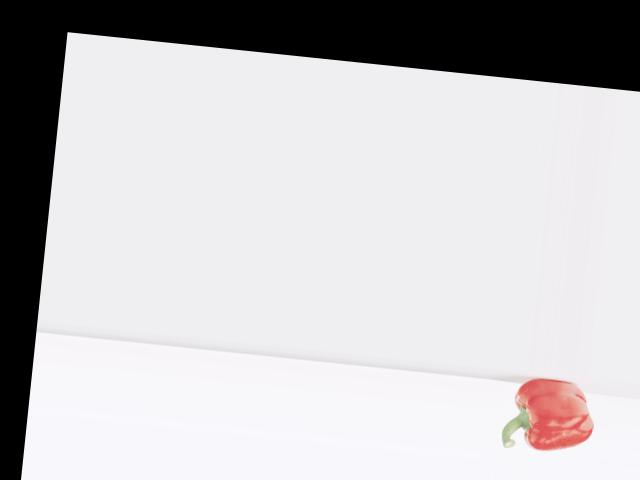bell_pepper: (491, 370, 602, 460)
